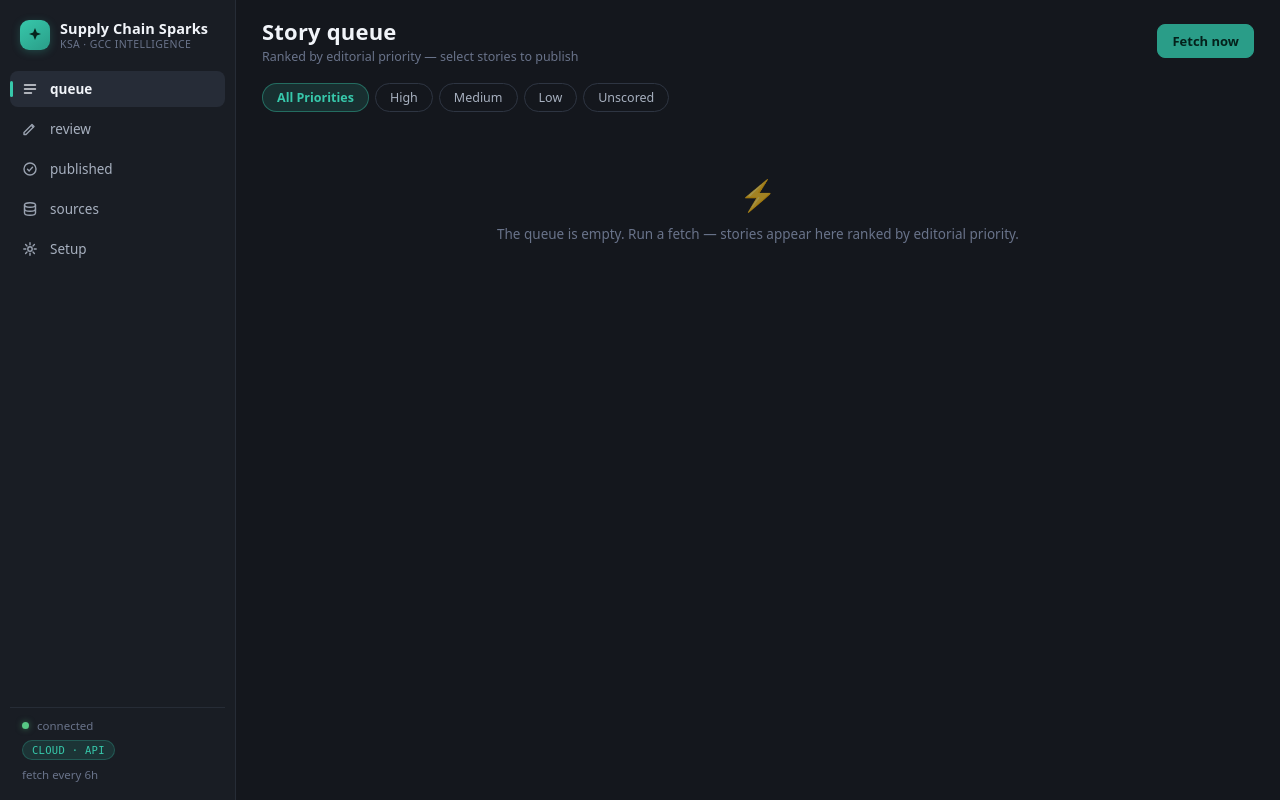
Test: fetch now reports the cycle summary and refreshes the queue
Expected: the text "queue is empty" is shown, x1=497 y1=225 x2=1019 y2=243
Step 1. Click the button "Fetch now" → point(1206, 40), box x1=1158 y1=24 x2=1254 y2=58
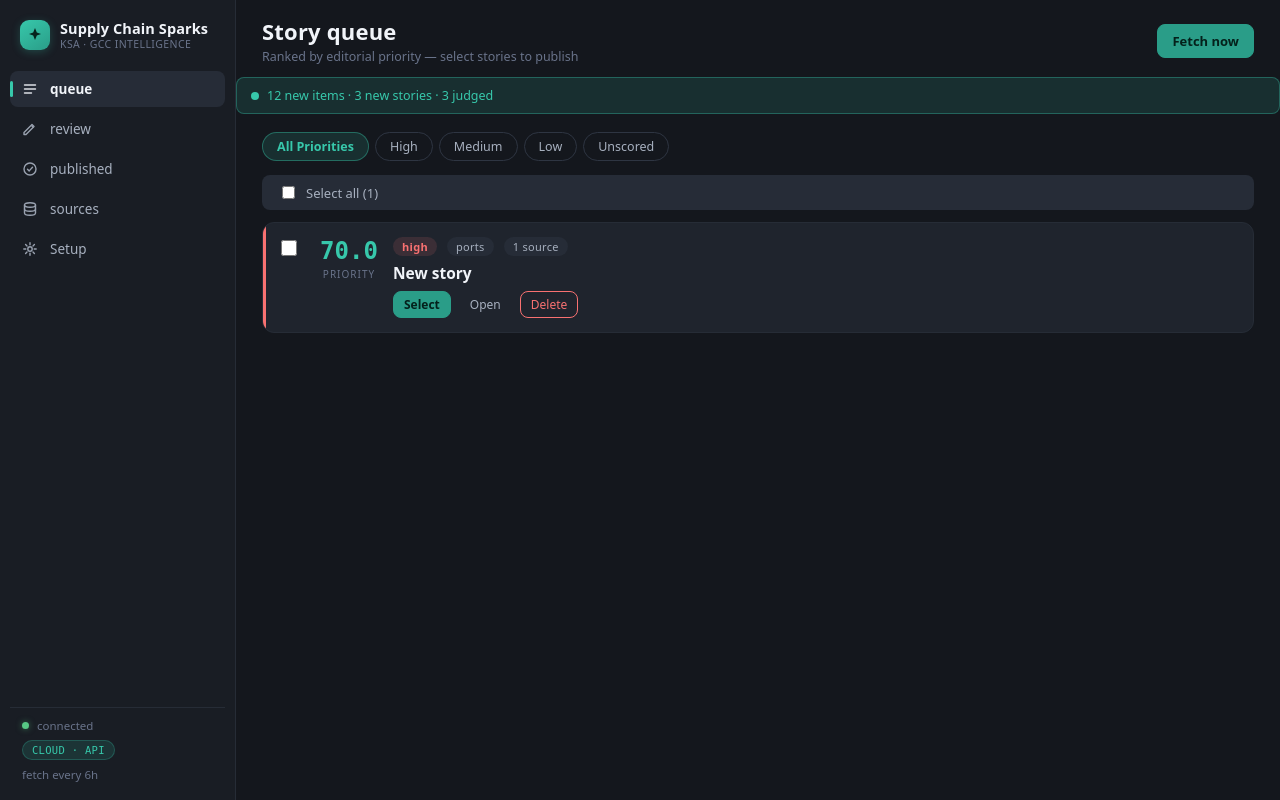
Now the text "12 new items · 3 new stories · 3 judged" is shown, box x1=236 y1=77 x2=1279 y2=114
Now the heading "New story" is shown, box x1=393 y1=262 x2=472 y2=284
